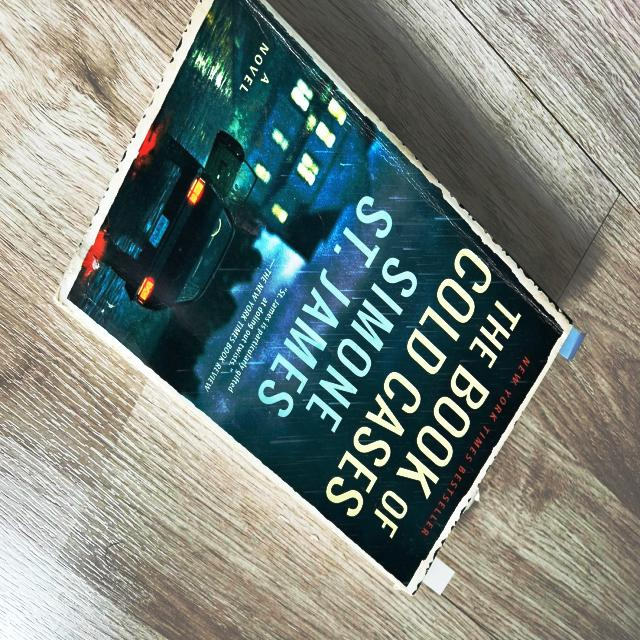Book: (66, 0, 565, 588)
